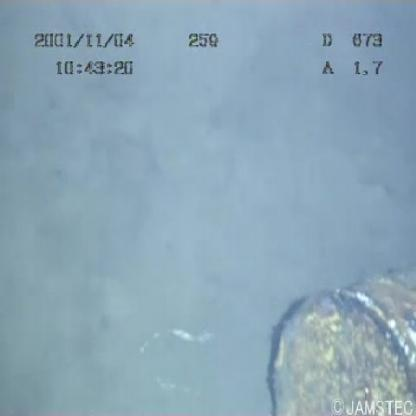Rác: (265, 256, 416, 416)
